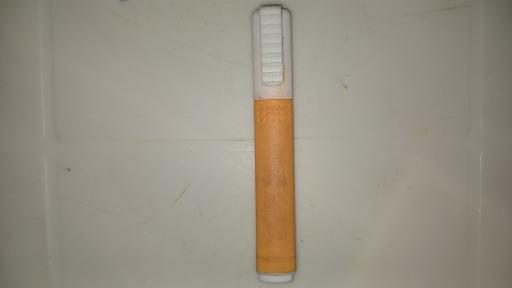Highlighter: (253, 5, 296, 284)
